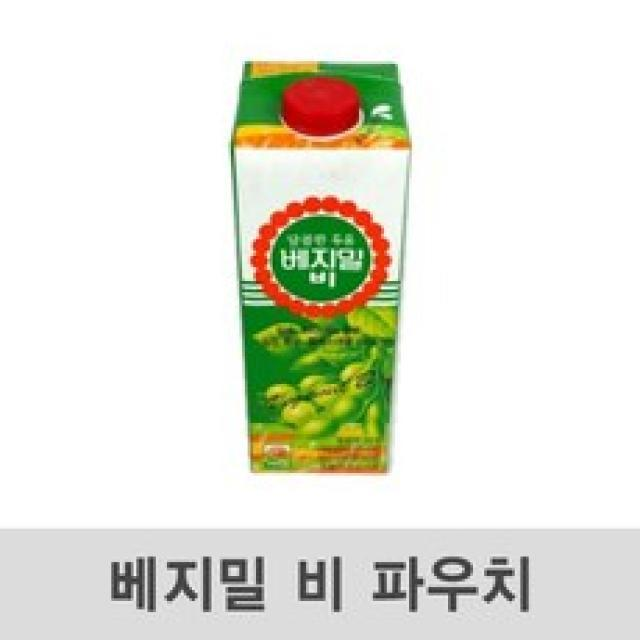Tetra: (210, 48, 416, 478)
